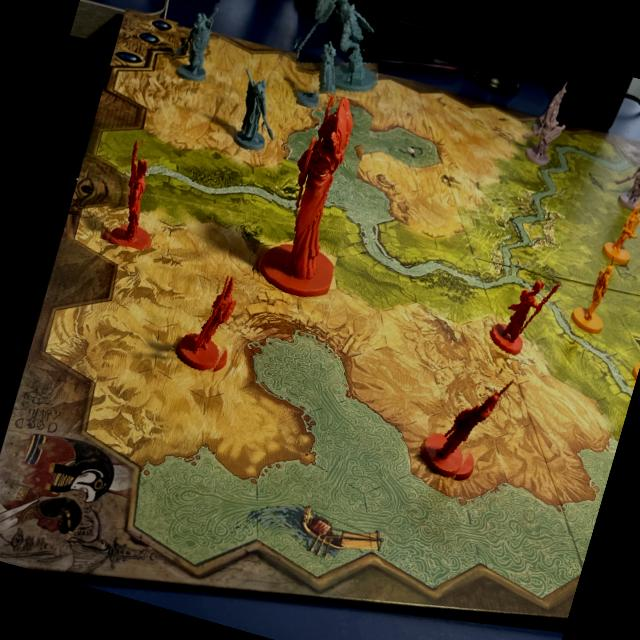amon: (245, 76, 381, 304)
amon_follower: (416, 352, 509, 488), (170, 258, 258, 382), (96, 134, 176, 252), (478, 257, 560, 363)
isis: (277, 0, 394, 108)
isis_follower: (222, 62, 293, 158), (162, 0, 232, 86), (291, 35, 348, 114)
